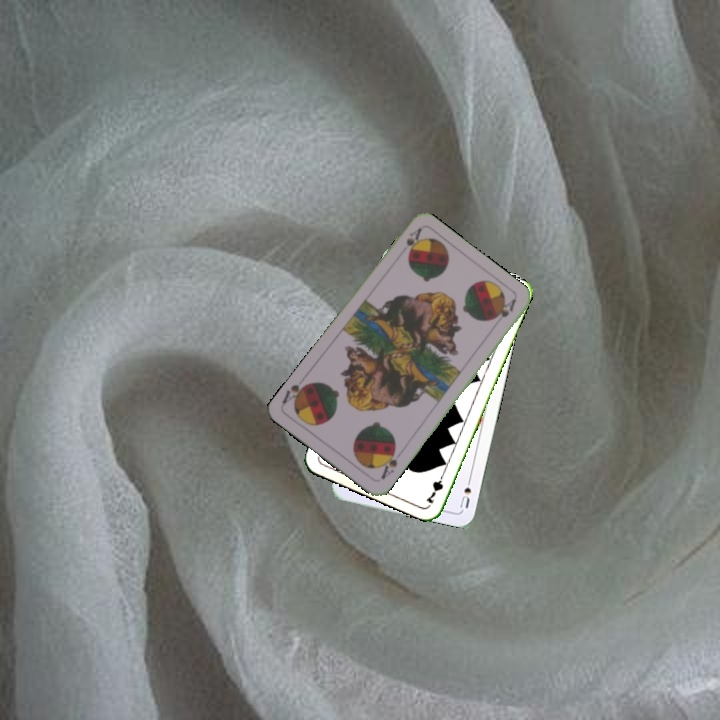G7: (422, 467, 448, 506)
SA: (377, 444, 400, 482), (402, 224, 424, 258)
SU: (456, 472, 474, 512)
